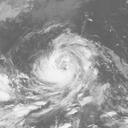cyclone: (33, 46, 94, 90)
